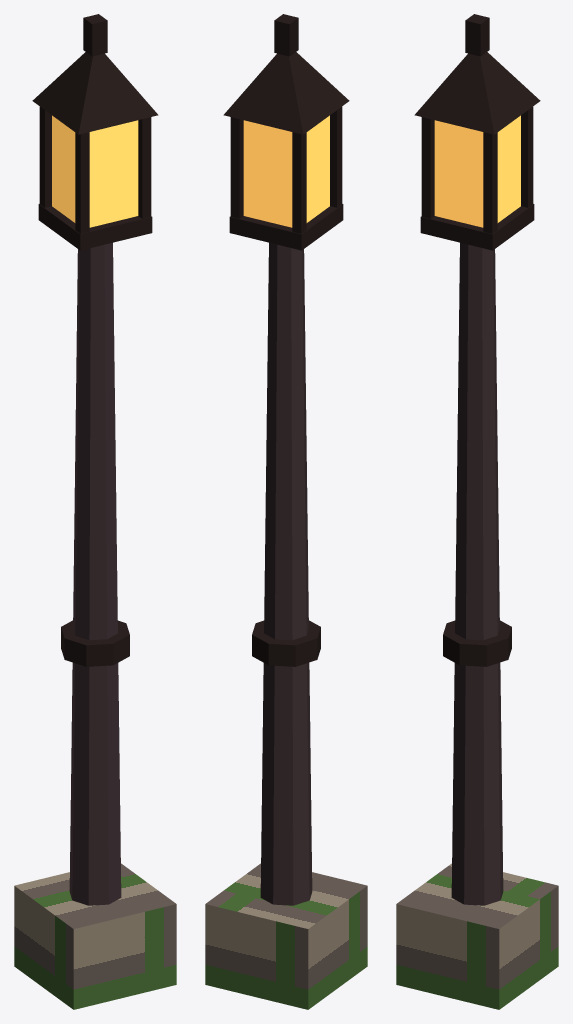
The model's file is lamp_post.glb.
3 views of the same model, side by side, from view 1: azimuth 30°, elevation 25°; view 2: azimuth 150°, elevation 25°; view 3: azimuth 330°, elevation 25° (orthographic).
Visible parts, largest first — view 1: lamp_post; view 2: lamp_post; view 3: lamp_post.
Boxes of the visible parts, x1,y1,x2,y2 form: lamp_post: [14, 14, 176, 1009]; lamp_post: [205, 14, 367, 1009]; lamp_post: [396, 14, 558, 1009].
Bounding box in the file's own units: 0.4 × 3.55 × 0.4.
3 materials, 1 textured.
